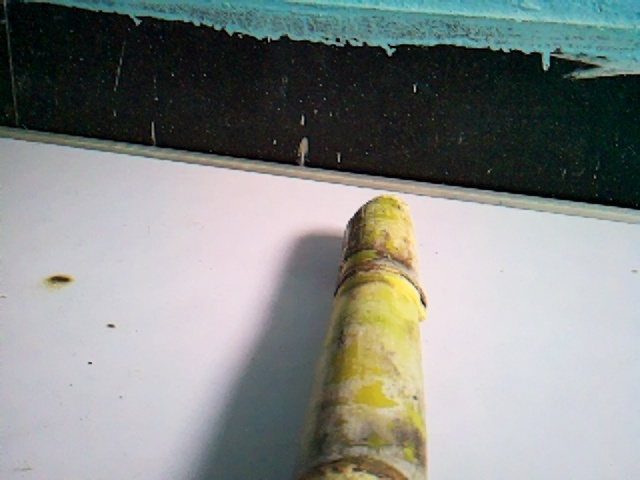Good Sugarcane: (290, 198, 429, 480)
Node: (326, 255, 427, 326)
